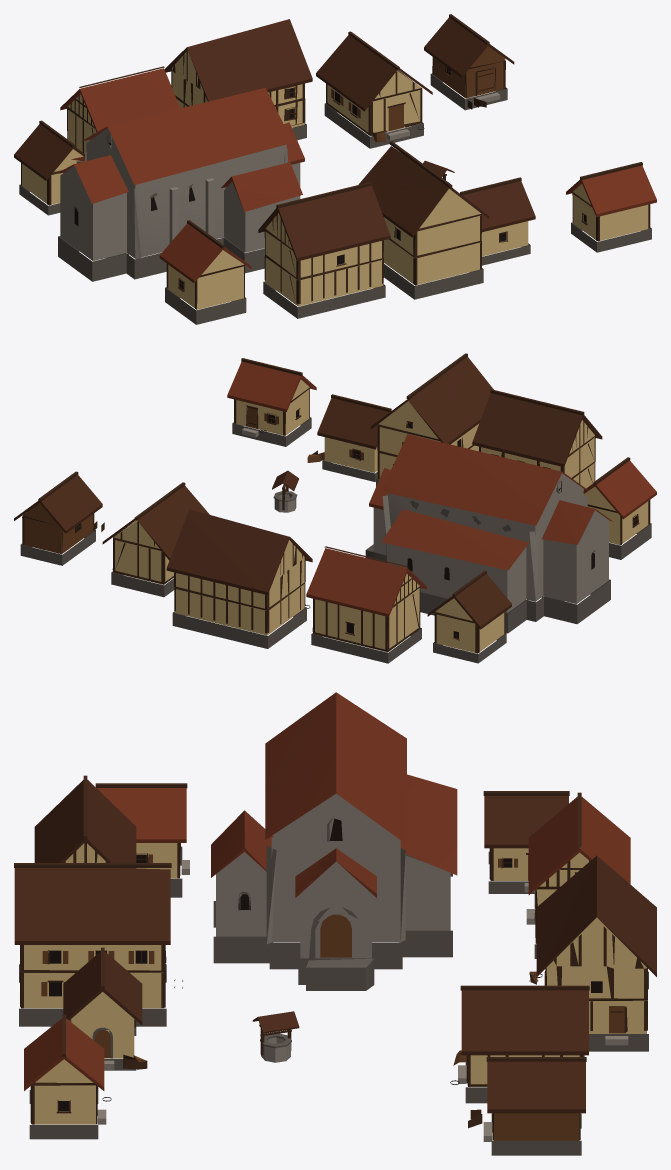
Rendered from Villa_LOD2.glb.
3 renders of one model, top to bottom at view 1: azimuth 30°, elevation 25°; view 2: azimuth 150°, elevation 25°; view 3: azimuth 270°, elevation 25°, orthographic. The views are drawn at different scales.
Visible parts, largest first — view 1: Iglesia, CasaEntramado, CasaGrande, CasaLarga, Galpon, CasaPequena1, CasaPequena3, Establo, CasaTrasera, CasaAnexo, CasaPequena2; view 2: Iglesia, CasaLarga, CasaTrasera, CasaEntramado, CasaGrande, Galpon, CasaPequena3, Establo, CasaPequena2, CasaPequena1, CasaAnexo, Pozo; view 3: Iglesia, CasaGrande, CasaLarga, Galpon, Establo, CasaPequena3, CasaTrasera, CasaAnexo, CasaEntramado, CasaPequena2, CasaPequena1, Pozo (+1 smaller).
Part boxes in pixels (left/top/right/bottom): Iglesia: left=56, top=87, right=304, bottom=281; CasaEntramado: left=258, top=182, right=390, bottom=318; CasaGrande: left=358, top=141, right=488, bottom=299; CasaLarga: left=164, top=19, right=312, bottom=140; Galpon: left=316, top=31, right=432, bottom=148; CasaPequena1: left=159, top=220, right=251, bottom=324; CasaPequena3: left=566, top=162, right=656, bottom=252; Establo: left=424, top=14, right=514, bottom=110; CasaTrasera: left=60, top=66, right=180, bottom=153; CasaAnexo: left=460, top=177, right=535, bottom=265; CasaPequena2: left=14, top=120, right=84, bottom=215; Iglesia: left=365, top=434, right=612, bottom=633; CasaLarga: left=166, top=509, right=312, bottom=648; CasaTrasera: left=306, top=546, right=426, bottom=663; CasaEntramado: left=472, top=389, right=602, bottom=489; CasaGrande: left=370, top=353, right=493, bottom=486; Galpon: left=102, top=482, right=209, bottom=597; CasaPequena3: left=227, top=358, right=316, bottom=446; Establo: left=14, top=471, right=102, bottom=565; CasaPequena2: left=427, top=570, right=511, bottom=663; CasaPequena1: left=583, top=457, right=656, bottom=559; CasaAnexo: left=317, top=394, right=391, bottom=481; Pozo: left=272, top=470, right=298, bottom=512; Iglesia: left=211, top=692, right=457, bottom=990; CasaGrande: left=14, top=863, right=171, bottom=1026; CasaLarga: left=536, top=855, right=656, bottom=1051; Galpon: left=458, top=985, right=589, bottom=1103; Establo: left=483, top=1057, right=586, bottom=1155; CasaPequena3: left=24, top=1014, right=106, bottom=1139; CasaTrasera: left=526, top=792, right=630, bottom=958; CasaAnexo: left=63, top=947, right=142, bottom=1070; CasaEntramado: left=34, top=775, right=136, bottom=868; CasaPequena2: left=483, top=791, right=569, bottom=893; CasaPequena1: left=95, top=783, right=189, bottom=897; Pozo: left=252, top=1011, right=299, bottom=1062.
Bounding box in the file's own units: 52.7 × 13.93 × 44.9.
